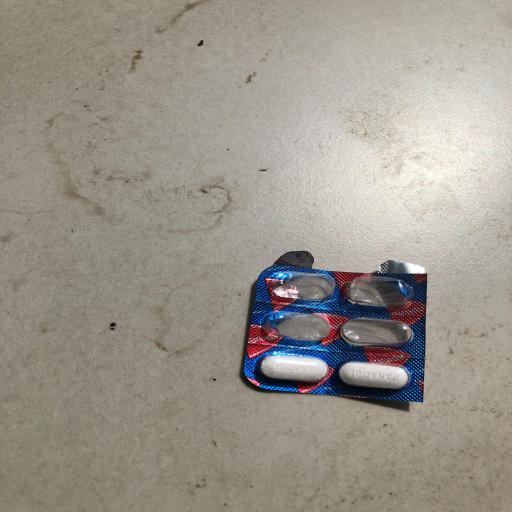waste: (230, 240, 458, 419)
